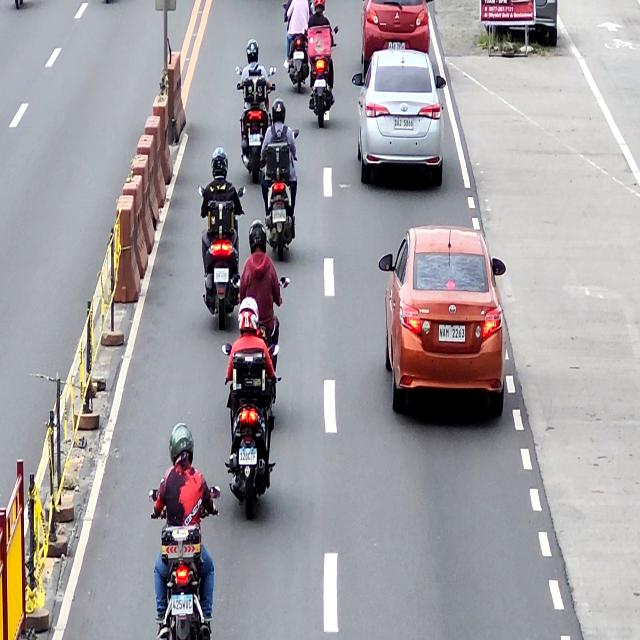Car: (377, 224, 507, 425), (352, 48, 446, 190), (360, 0, 434, 78)
License-Plate: (438, 323, 466, 342), (170, 595, 193, 613), (239, 449, 257, 465), (394, 117, 414, 130), (271, 208, 286, 223), (387, 41, 406, 51), (214, 269, 228, 282), (248, 134, 262, 147), (314, 79, 327, 88), (293, 51, 304, 59)
Motorcycle: (147, 483, 221, 640), (221, 340, 280, 518), (196, 185, 250, 331), (231, 270, 289, 373), (258, 127, 300, 262), (237, 61, 275, 185), (305, 24, 339, 126), (284, 3, 313, 91)
